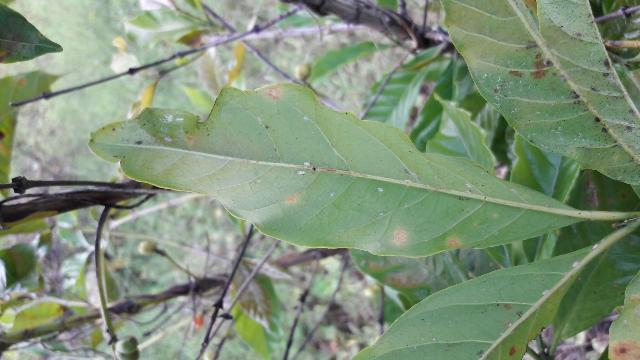rust_level_1: (91, 83, 587, 258)
